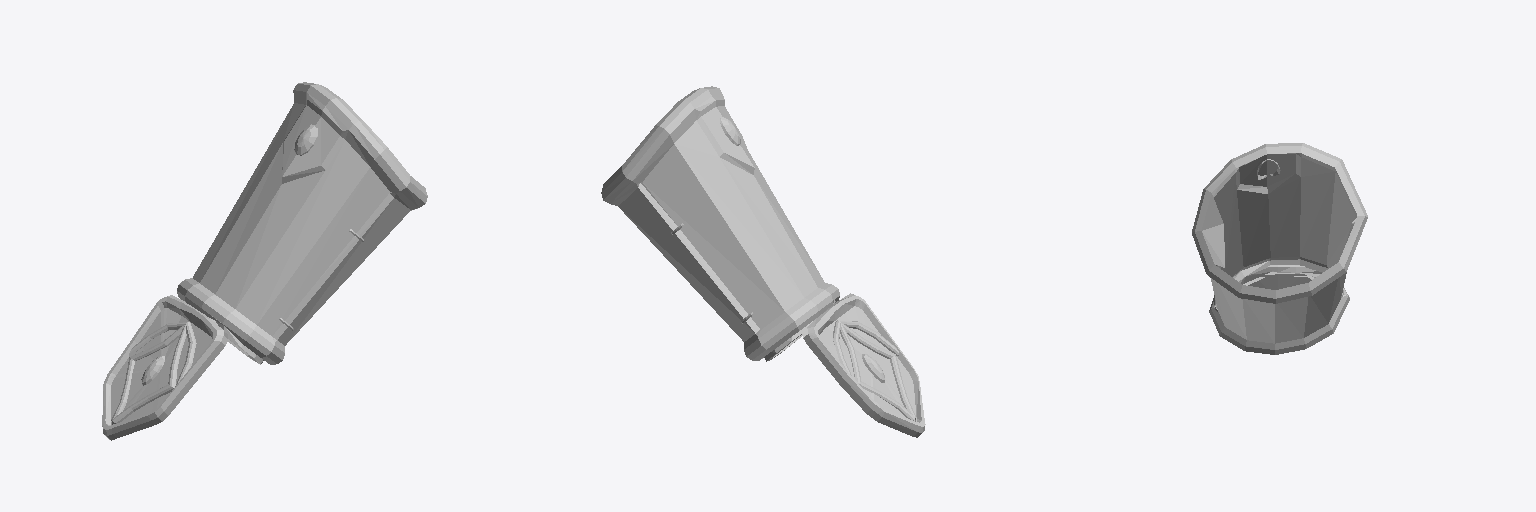
File: jaffa_armplates.obj
The picture shows the model from 3 angles: view 1: azimuth 30°, elevation 25°; view 2: azimuth 150°, elevation 25°; view 3: azimuth 270°, elevation 25°; orthographic projection.
Parts seen in each view (by area): view 1: Soldier.jaffa_ref.smd.mesh_3.001; view 2: Soldier.jaffa_ref.smd.mesh_3.001; view 3: Soldier.jaffa_ref.smd.mesh_3.001.
Boxes of the visible parts, x1,y1,x2,y2 form: Soldier.jaffa_ref.smd.mesh_3.001: [102, 82, 427, 440]; Soldier.jaffa_ref.smd.mesh_3.001: [601, 86, 925, 437]; Soldier.jaffa_ref.smd.mesh_3.001: [1192, 143, 1367, 354].
Bounding box in the file's own units: 10.89 × 9.86 × 5.41.